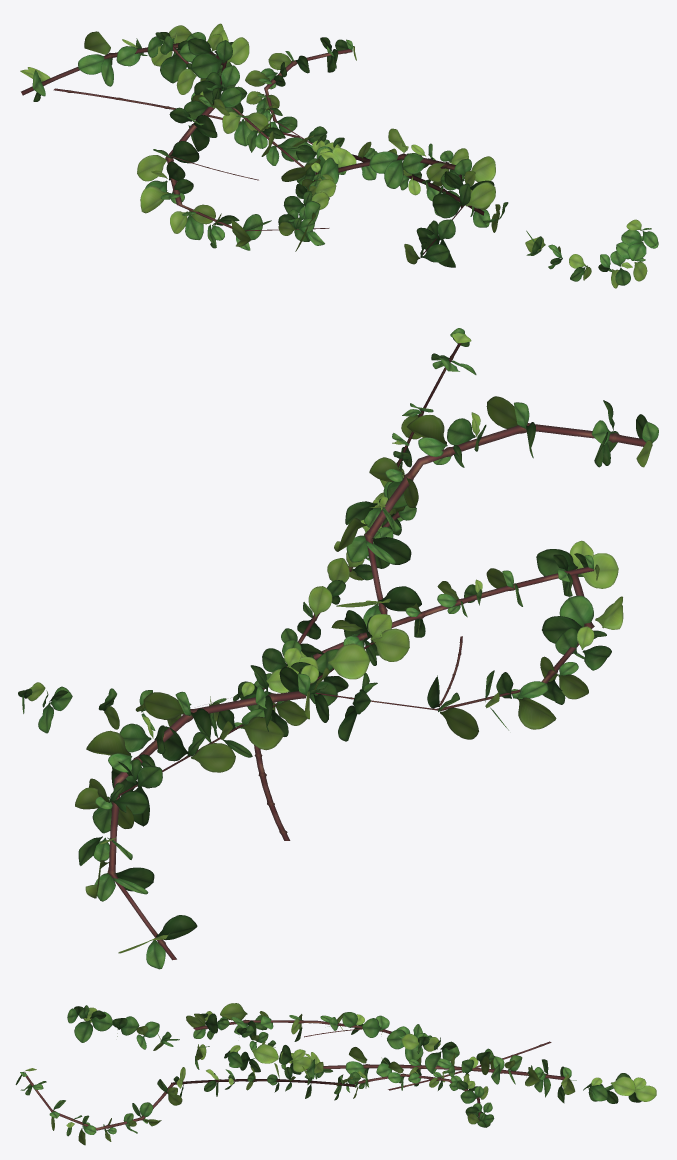
The model's file is branches.fbx.
3 renders of one model, top to bottom at view 1: azimuth 30°, elevation 25°; view 2: azimuth 150°, elevation 25°; view 3: azimuth 270°, elevation 25°, orthographic. The views are drawn at different scales.
Visible parts, largest first — view 1: branches; view 2: branches; view 3: branches.
Part boxes in pixels (bbox=[...]): branches: bbox=[20, 23, 658, 288]; branches: bbox=[18, 328, 658, 969]; branches: bbox=[15, 1003, 656, 1145].
Size of the model in its own units: 37.57 by 18.4 by 90.16.
1 material, 1 textured.
